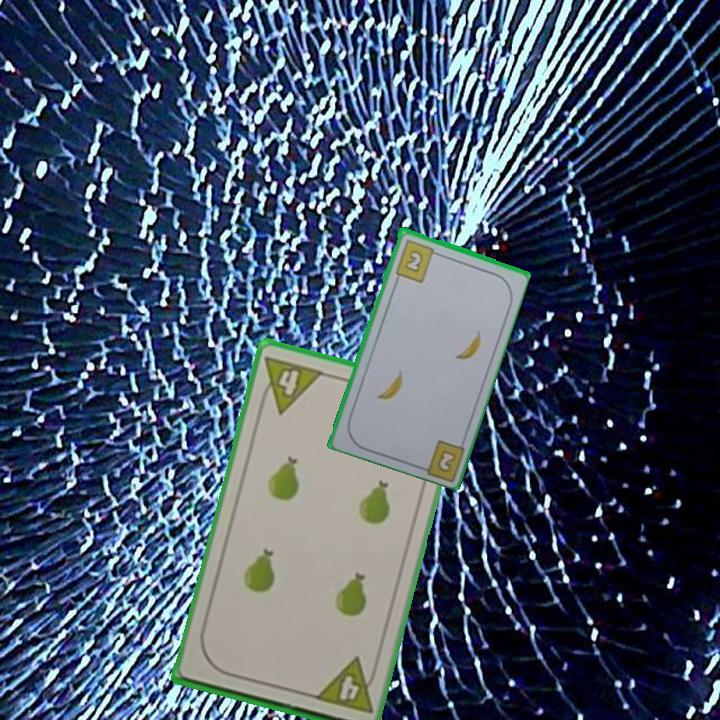2b: (392, 236, 442, 285), (436, 449, 456, 473)
4p: (254, 352, 326, 417), (309, 654, 381, 716)
